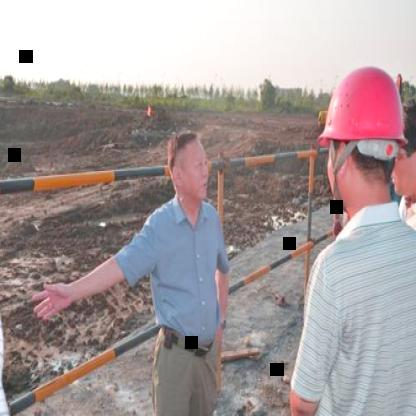head: (167, 126, 211, 208), (392, 80, 416, 202)
helmet: (312, 59, 408, 219)
